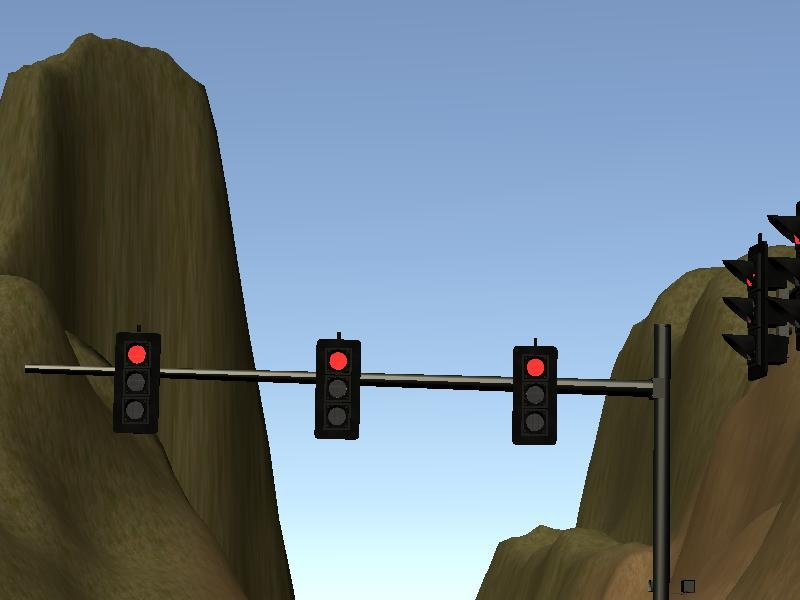traffic_light_red: (99, 321, 653, 448)
